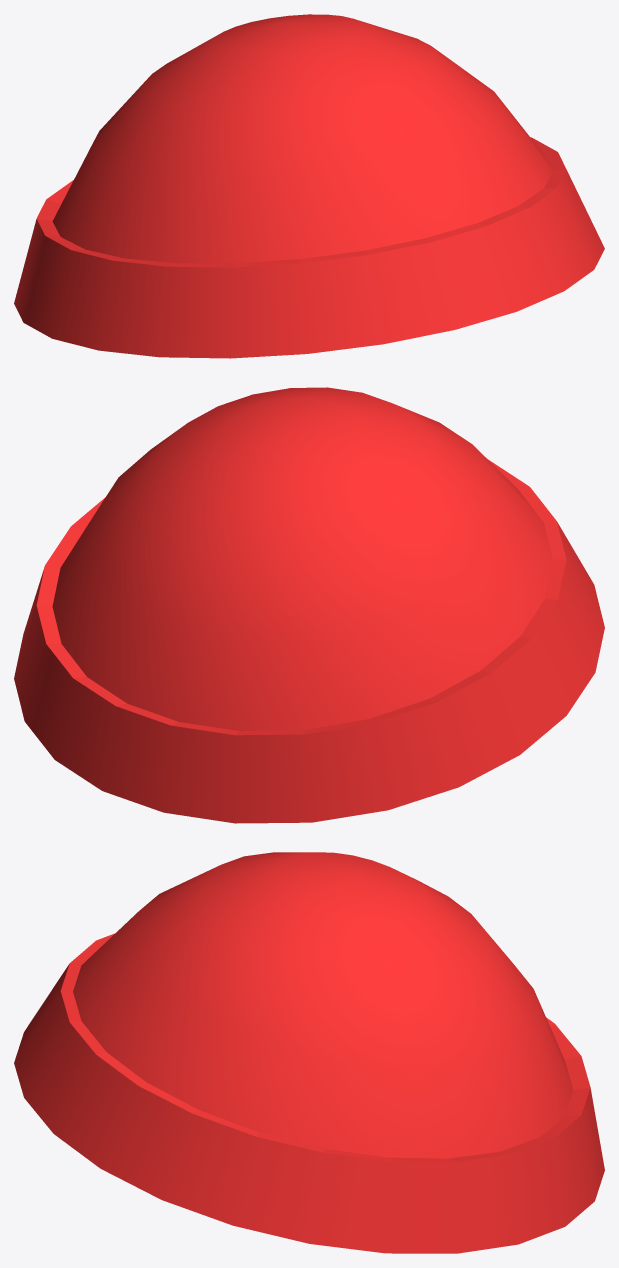
File: Beanie.fbx
3 views of the same model, one above another, from view 1: azimuth 30°, elevation 25°; view 2: azimuth 150°, elevation 25°; view 3: azimuth 270°, elevation 25° (orthographic).
Parts seen in each view (by area): view 1: Cap; view 2: Cap; view 3: Cap.
Part boxes in pixels (box(x1,y1,x2,y2)): Cap: box(14, 14, 604, 358); Cap: box(14, 387, 604, 823); Cap: box(14, 852, 604, 1253).
Size of the model in its own units: 19.51 by 10.81 by 19.15.
